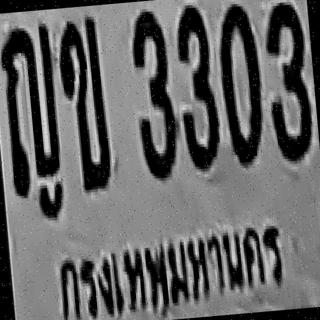A13: (0, 20, 62, 194), (0, 20, 60, 172), (0, 51, 63, 195), (0, 20, 58, 152)
N00: (214, 0, 266, 165)
N03: (126, 6, 180, 178), (261, 0, 314, 160), (171, 1, 221, 167)
P04: (48, 212, 294, 320)
